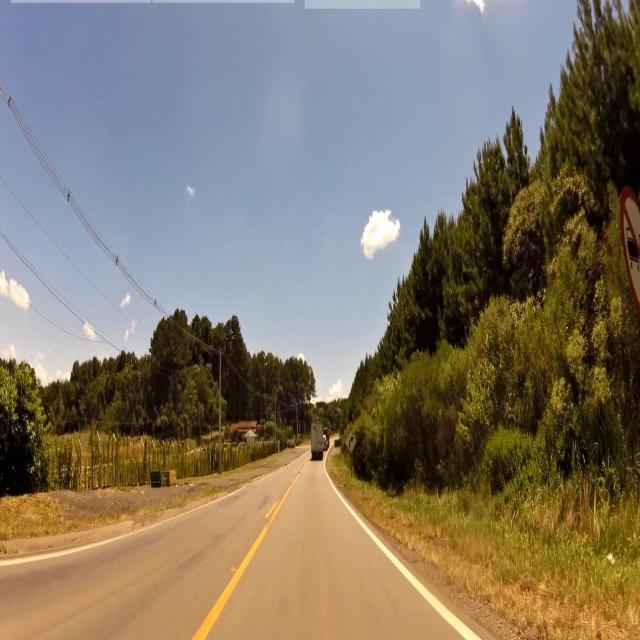A-2b: (345, 428, 358, 454)
